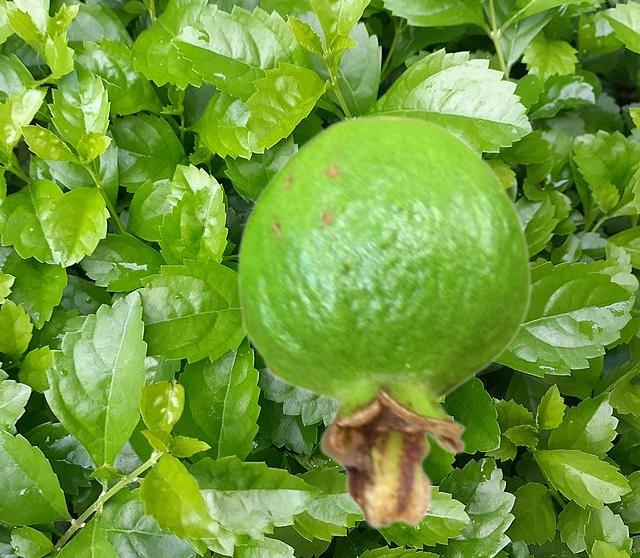guava: (236, 113, 531, 529)
